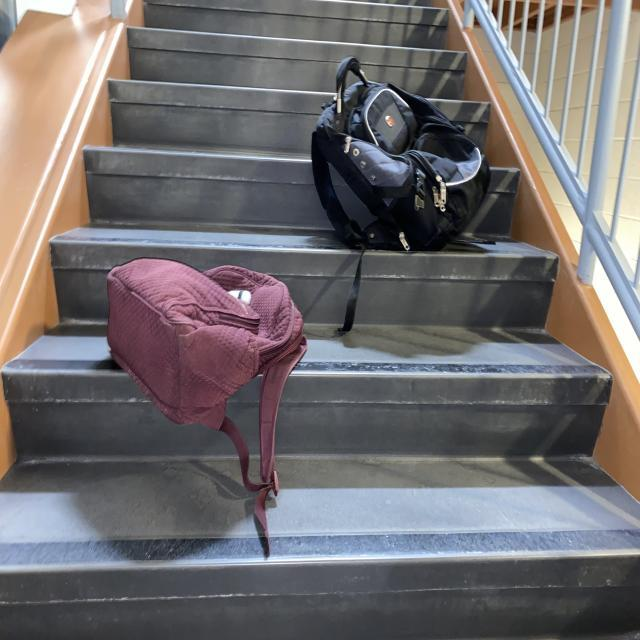Backpacks: (312, 60, 492, 258), (107, 254, 307, 432)
